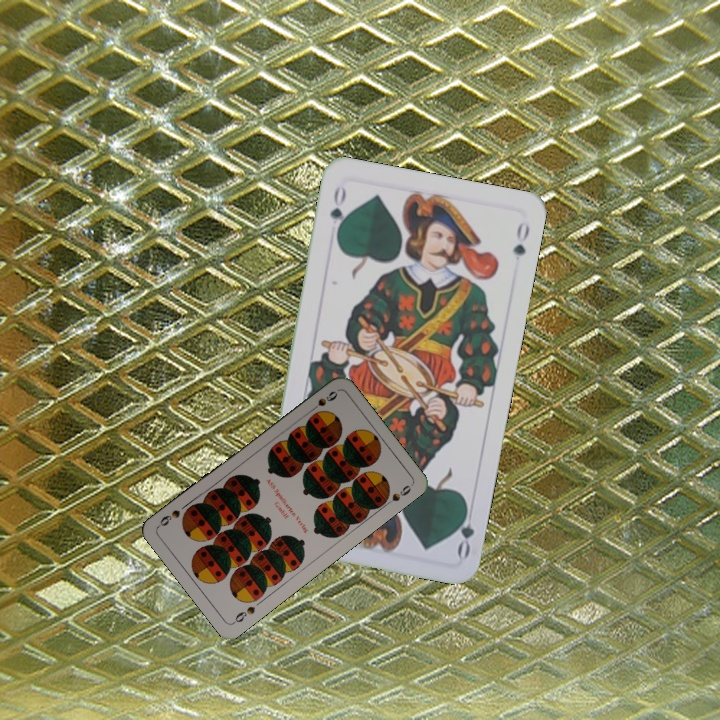GO: (450, 500, 477, 560), (325, 181, 349, 240)
S9: (305, 387, 340, 416), (229, 602, 258, 626)
